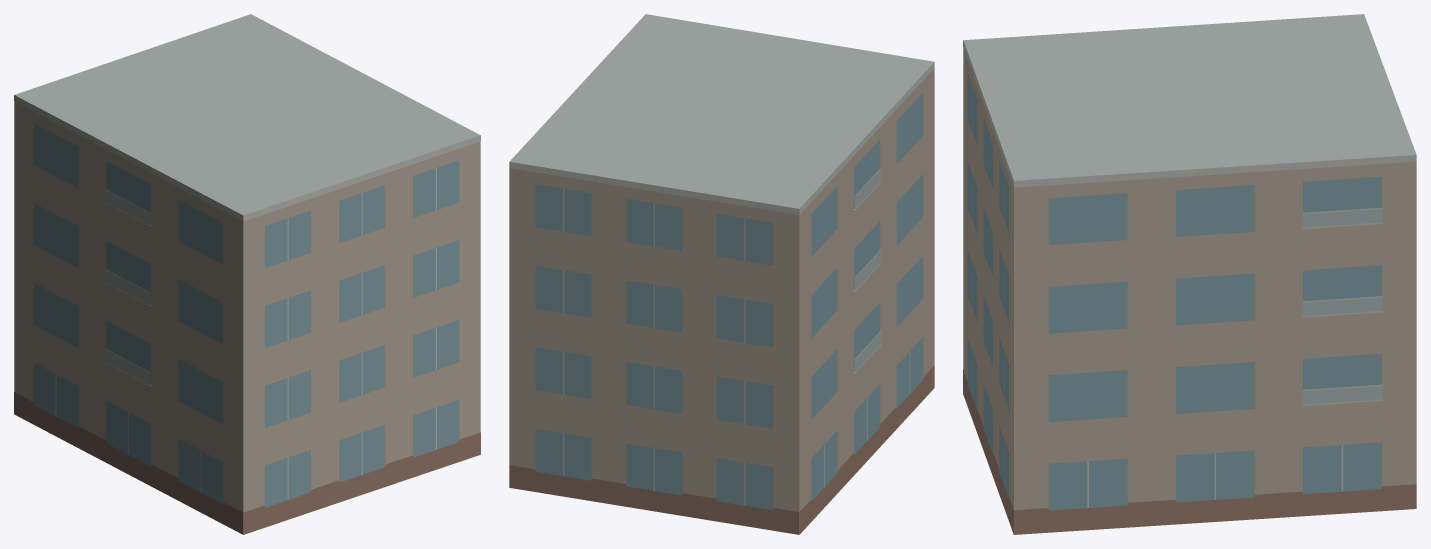
The model's file is survey-upis-32717032.glb.
The picture shows the model from 3 angles, left to right: view 1: azimuth 30°, elevation 25°; view 2: azimuth 150°, elevation 25°; view 3: azimuth 270°, elevation 25°; orthographic projection. The views are drawn at different scales.
Visible parts, largest first — view 1: survey-upis-32717032.tmp; view 2: survey-upis-32717032.tmp; view 3: survey-upis-32717032.tmp.
Boxes of the visible parts, x1,y1,x2,y2 form: survey-upis-32717032.tmp: [14, 14, 480, 534]; survey-upis-32717032.tmp: [509, 14, 934, 534]; survey-upis-32717032.tmp: [963, 14, 1416, 534].
Size of the model in its own units: 12.95 by 12.8 by 14.87.
